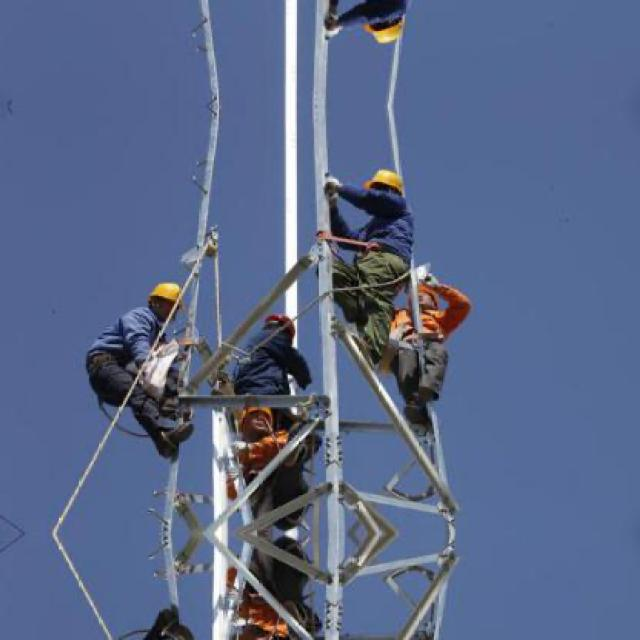con casco: (394, 265, 456, 324), (362, 153, 412, 212), (144, 276, 195, 328)
